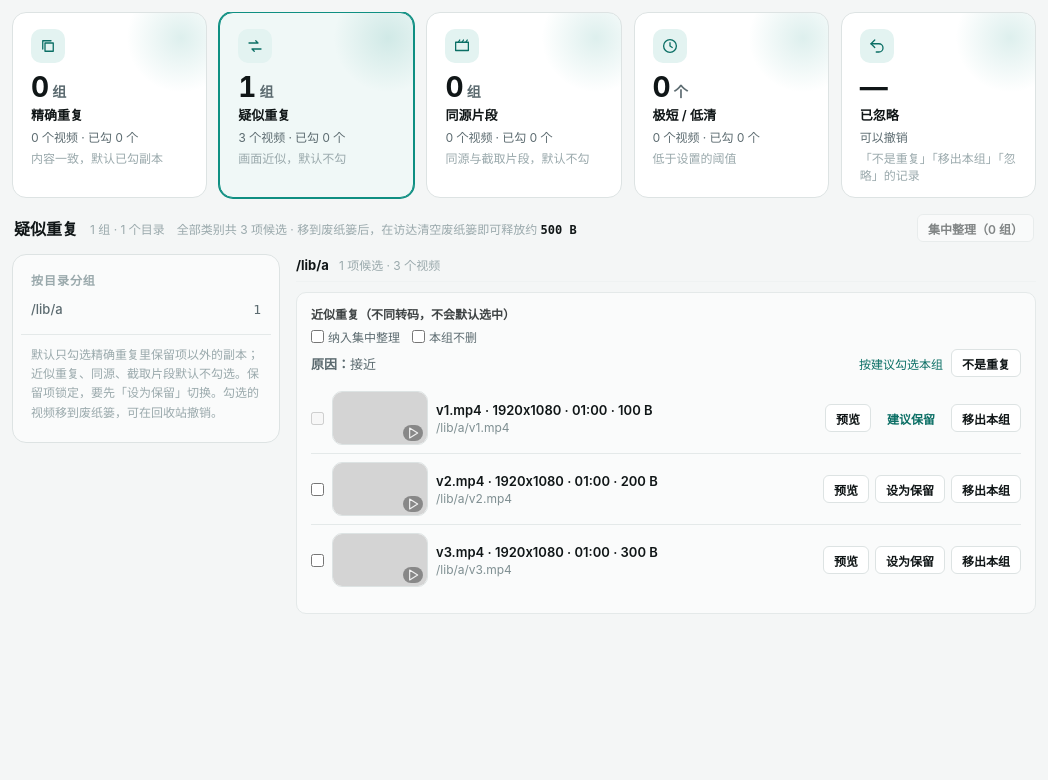
Scenario: IMG-07 忽略可控：确认、移出单个成员、「已忽略」与撤销 › IMG-07「已忽略」页签按类别列出记录，可撤销、可加载更多
What coordinates should you click on to do the following:
click the tab with test id "cleanup-dismissed-tab"
I would click on:
 (938, 105)
Its box is x1=841 y1=12 x2=1036 y2=198.
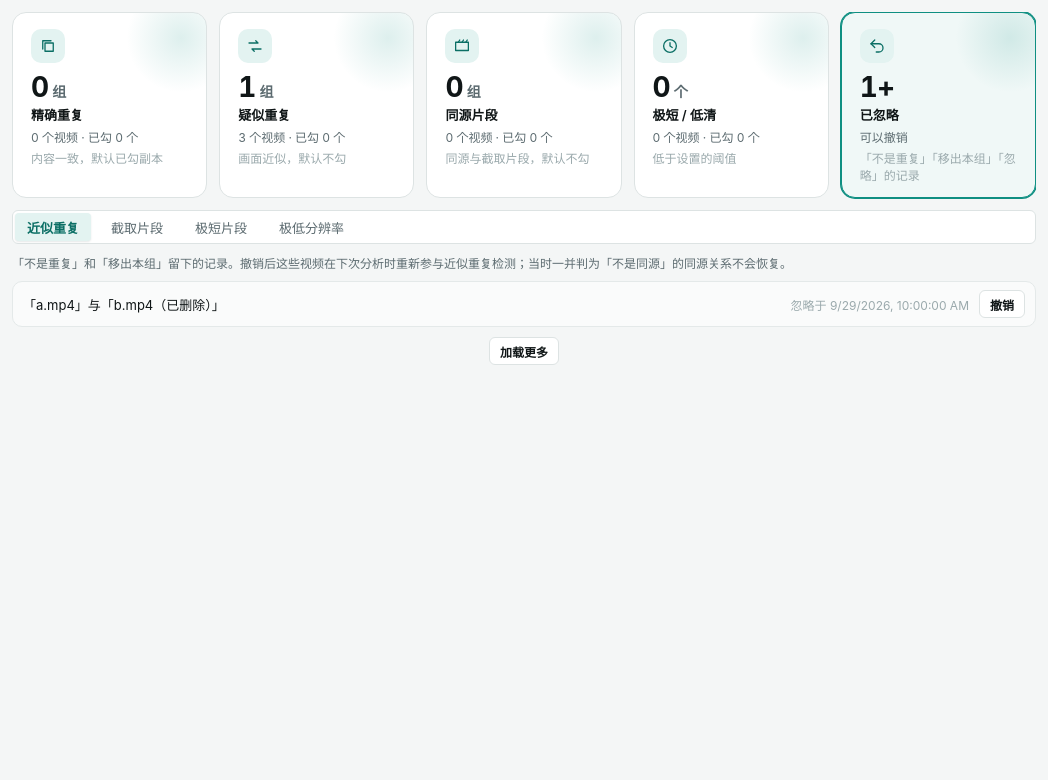
Now the number of list items with test id "cleanup-dismissal-item" is 1, box x1=12 y1=281 x2=1036 y2=327
Now the list item with test id "cleanup-dismissal-item" shows "「a.mp4」与「b.mp4（已删除）」", box x1=23 y1=296 x2=225 y2=312
What coordinates should you click on to do the following:
click the button with test id "cleanup-dismissed-more"
I would click on:
 (524, 351)
Its box is x1=489 y1=337 x2=559 y2=365.
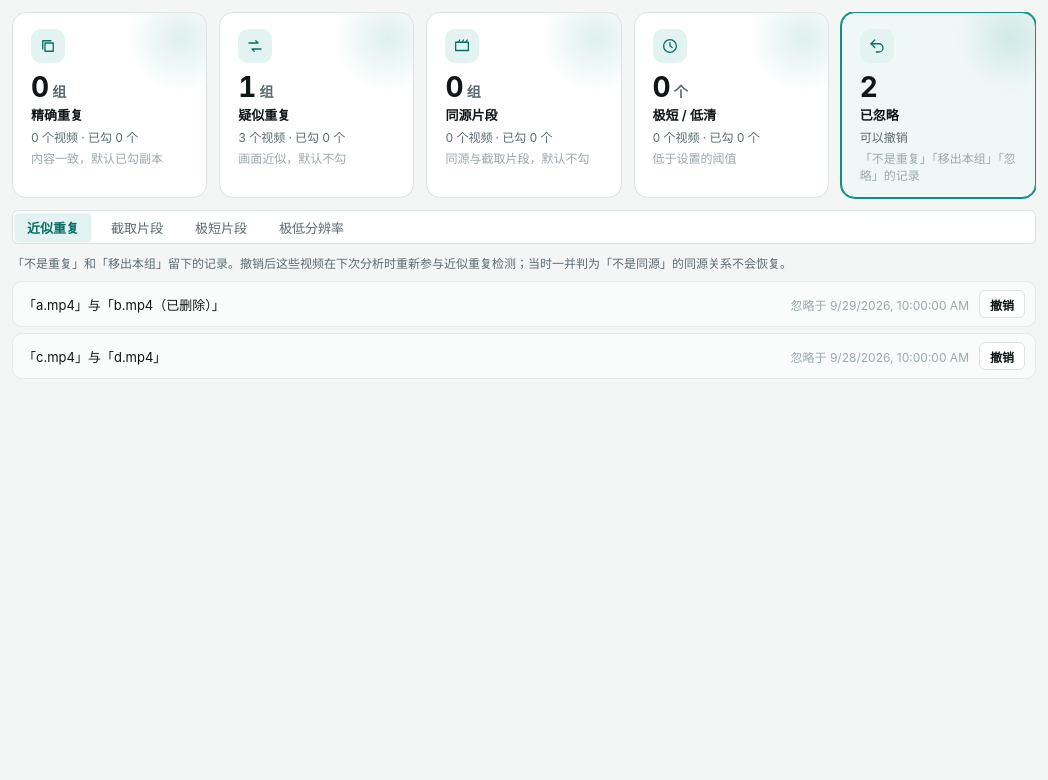
Now the number of list items with test id "cleanup-dismissal-item" is 2, box x1=12 y1=281 x2=1036 y2=327; x1=12 y1=333 x2=1036 y2=379
What coordinates should you click on to do the following:
click the button with test id "cleanup-dismissal-undo" in the row of "「a.mp4」与「b.mp4（已删除）」"
I would click on:
 (1002, 304)
Its box is x1=979 y1=290 x2=1025 y2=318.
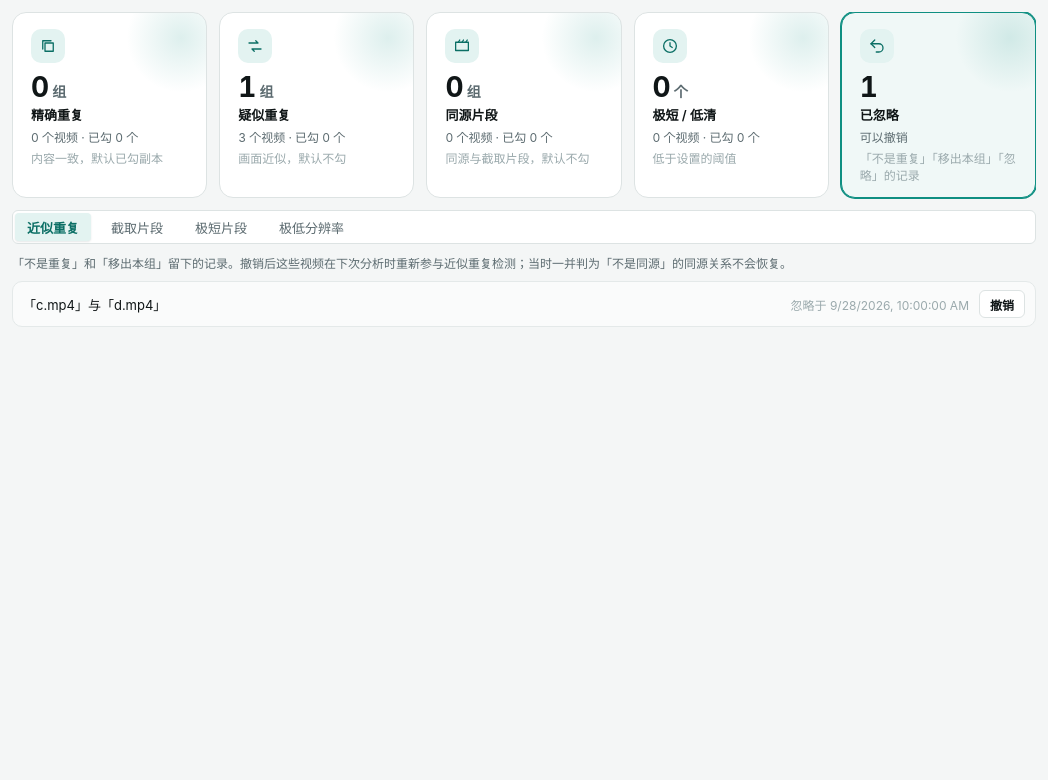
Now the number of list items with test id "cleanup-dismissal-item" is 1, box x1=12 y1=281 x2=1036 y2=327
What coordinates should you click on to do the following:
click the radio button labelled "极短片段"
I would click on:
 (221, 227)
Its box is x1=183 y1=213 x2=259 y2=241.
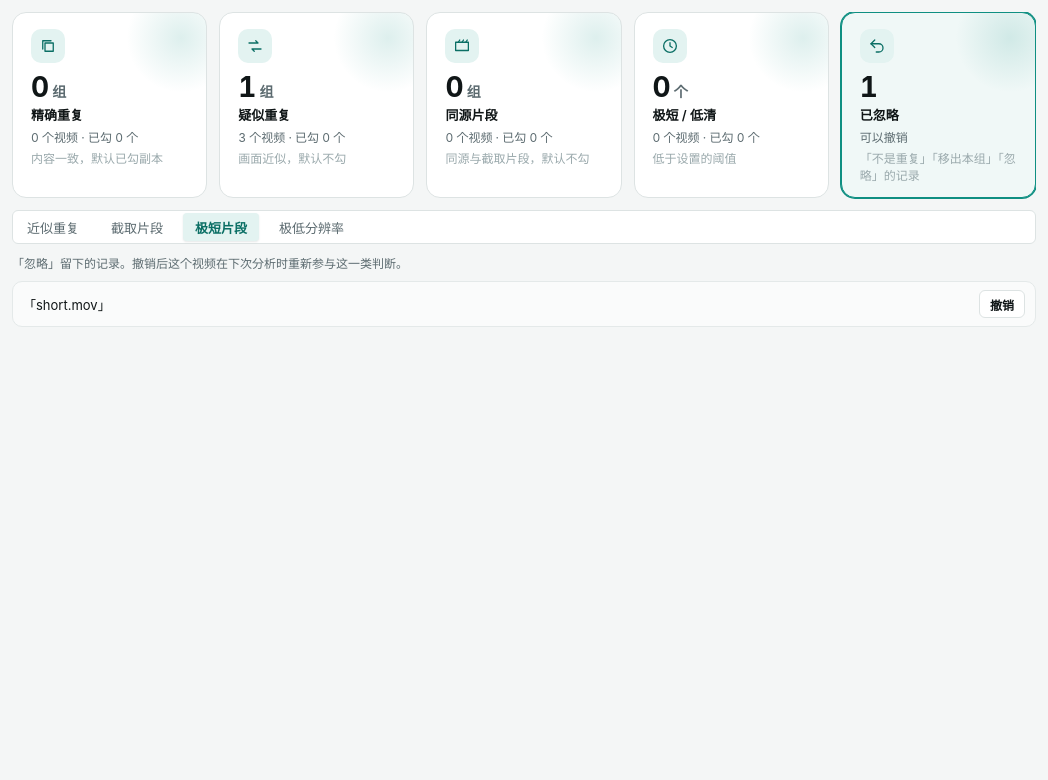
Now the list item with test id "cleanup-dismissal-item" shows "「short.mov」", box x1=23 y1=296 x2=111 y2=312
